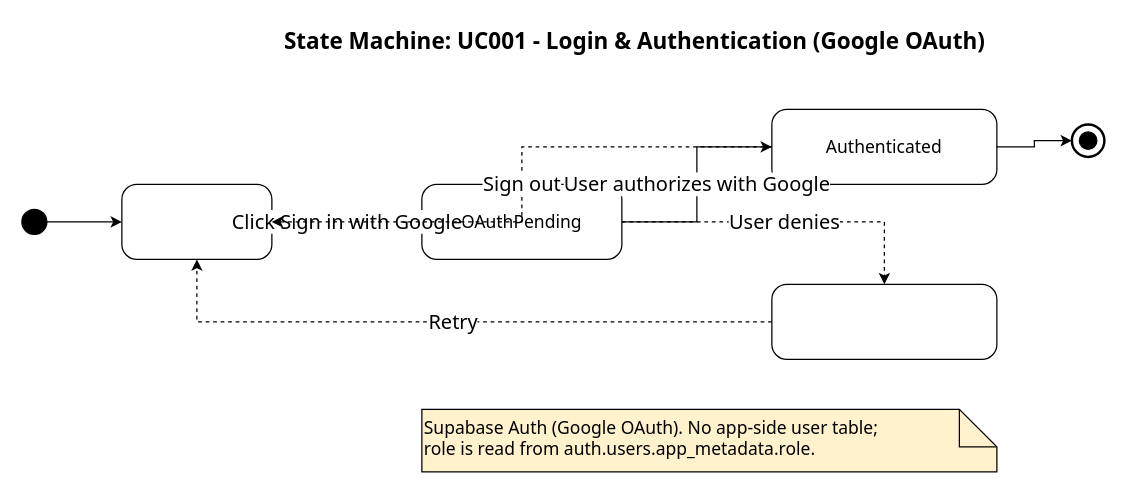
This 1128x494 diagram has some shape labels left out. The centre of each missing label's shape, as x and y in pixels:
AuthFailed: [884,321]
Idle: [196,221]
